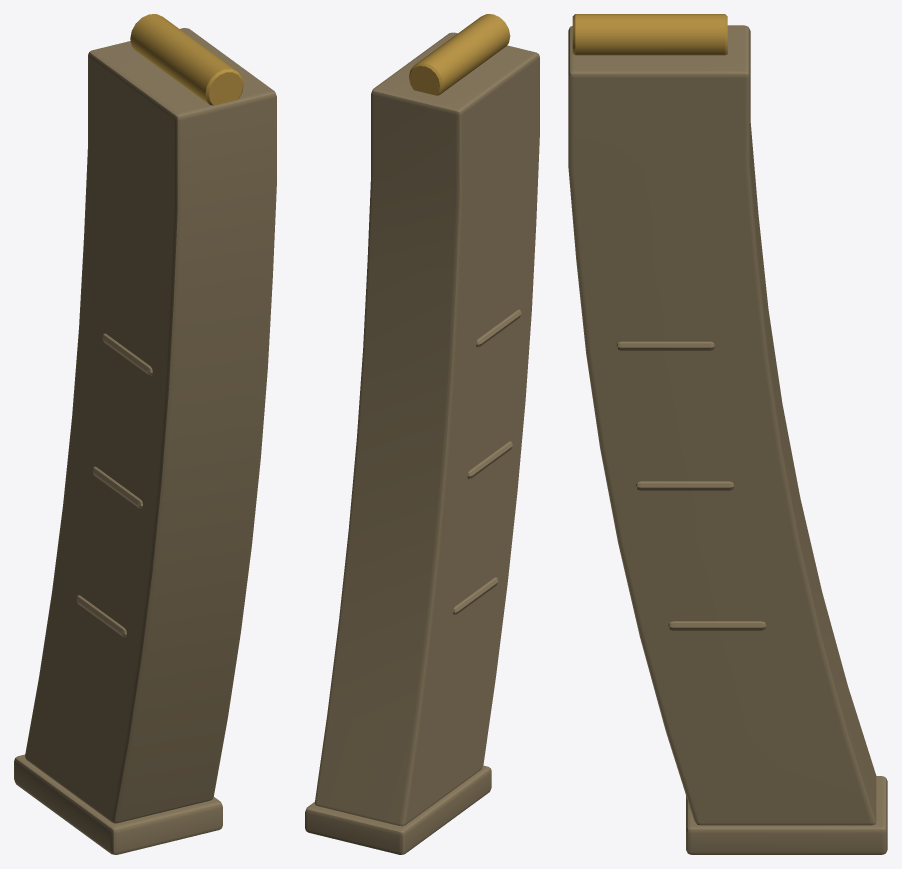
File: mod_lark_standard_mag.glb
The picture shows the model from 3 angles, left to right: view 1: azimuth 30°, elevation 25°; view 2: azimuth 150°, elevation 25°; view 3: azimuth 270°, elevation 25°; orthographic projection. The views are drawn at different scales.
Visible parts, largest first — view 1: Magazine, MagazineRound; view 2: Magazine, MagazineRound; view 3: Magazine, MagazineRound.
Part boxes in pixels (box(x1,y1,x2,y2)): Magazine: box(14, 28, 276, 854); MagazineRound: box(130, 14, 243, 105); Magazine: box(305, 32, 539, 854); MagazineRound: box(409, 14, 510, 95); Magazine: box(568, 25, 887, 854); MagazineRound: box(572, 14, 727, 55).
Size of the model in its own units: 0.0264 by 0.1832 by 0.0652.
